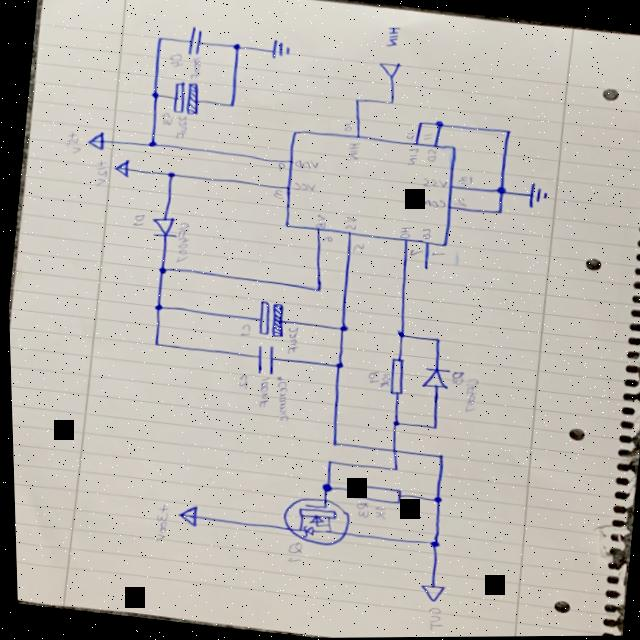capacitor: (249, 298, 284, 338), (167, 78, 202, 115), (250, 342, 275, 376), (184, 24, 205, 56)
crossover: (385, 446, 397, 454)
diode: (417, 365, 452, 391), (147, 213, 178, 238)
ground: (525, 180, 548, 210), (266, 36, 292, 61)
junction: (316, 480, 331, 492), (423, 537, 438, 549), (431, 118, 445, 129), (493, 184, 506, 195), (427, 495, 440, 505), (148, 89, 161, 99), (229, 41, 243, 50), (334, 323, 347, 332), (150, 302, 163, 311), (145, 138, 158, 147), (330, 360, 343, 369), (154, 265, 166, 274), (393, 329, 405, 338), (163, 169, 175, 178), (387, 418, 398, 427), (492, 207, 503, 216), (432, 451, 443, 460), (154, 33, 165, 42), (414, 119, 425, 128), (387, 464, 398, 472), (429, 335, 440, 343), (350, 95, 361, 103), (502, 128, 513, 136), (321, 457, 332, 465), (326, 439, 337, 447), (225, 100, 236, 108), (426, 423, 437, 430), (149, 340, 160, 347), (386, 98, 396, 105), (312, 285, 321, 292)
resistor: (342, 480, 400, 506), (383, 356, 405, 396)
source: (171, 502, 196, 527), (84, 128, 107, 151), (110, 156, 130, 178)
terminal: (414, 582, 443, 603), (375, 59, 402, 80)
text: (268, 374, 291, 422), (147, 501, 169, 543), (172, 220, 192, 264), (457, 375, 478, 413), (253, 375, 270, 409), (90, 157, 109, 187), (420, 606, 441, 632), (281, 324, 298, 353), (62, 130, 82, 154), (281, 540, 301, 564), (383, 24, 402, 48), (414, 195, 444, 209), (172, 114, 189, 138), (344, 140, 361, 163), (403, 145, 420, 166), (292, 157, 319, 170), (291, 179, 317, 192), (187, 56, 202, 78), (419, 176, 446, 188), (350, 499, 368, 517), (166, 50, 184, 68), (367, 504, 385, 520), (341, 214, 357, 231), (129, 211, 145, 227), (234, 321, 250, 337), (363, 368, 379, 384), (447, 369, 463, 385), (311, 213, 327, 228), (396, 224, 411, 239), (233, 373, 248, 388), (376, 371, 389, 388), (423, 147, 437, 162), (450, 196, 467, 207), (417, 227, 431, 240), (457, 173, 473, 184), (159, 112, 172, 125), (427, 249, 445, 257), (340, 121, 353, 132), (403, 130, 415, 141), (351, 241, 364, 250), (421, 131, 432, 141), (270, 189, 282, 198), (274, 161, 285, 170), (408, 247, 419, 256), (319, 235, 332, 242)
transistor: (275, 492, 349, 548)
